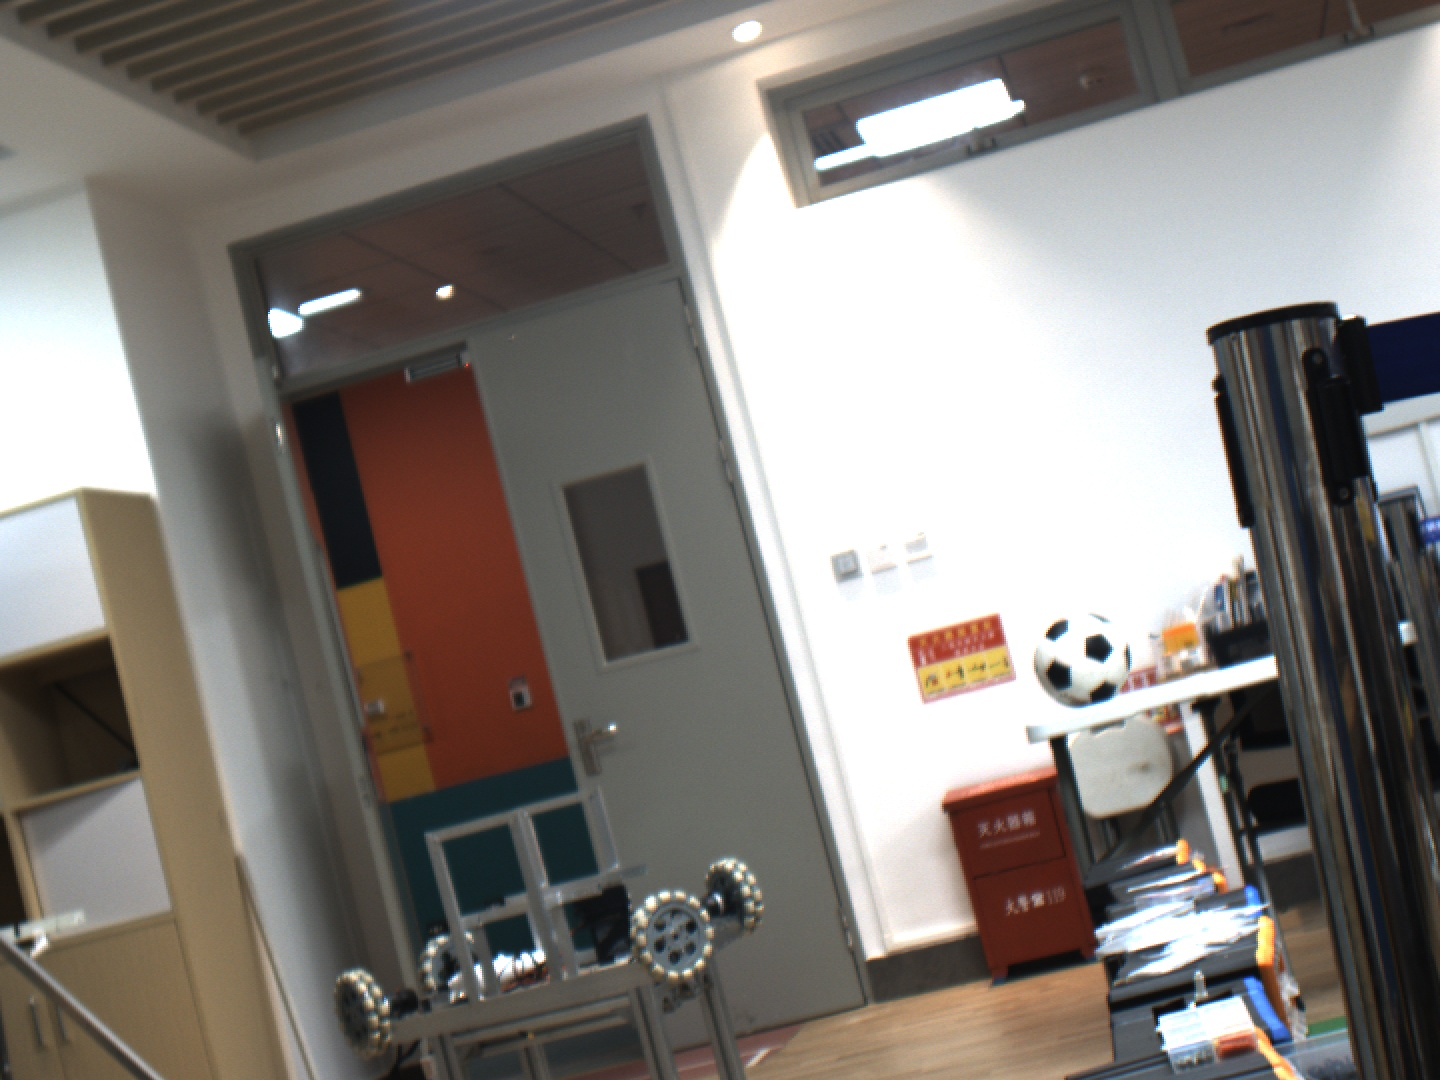ball: (1020, 598, 1147, 719)
